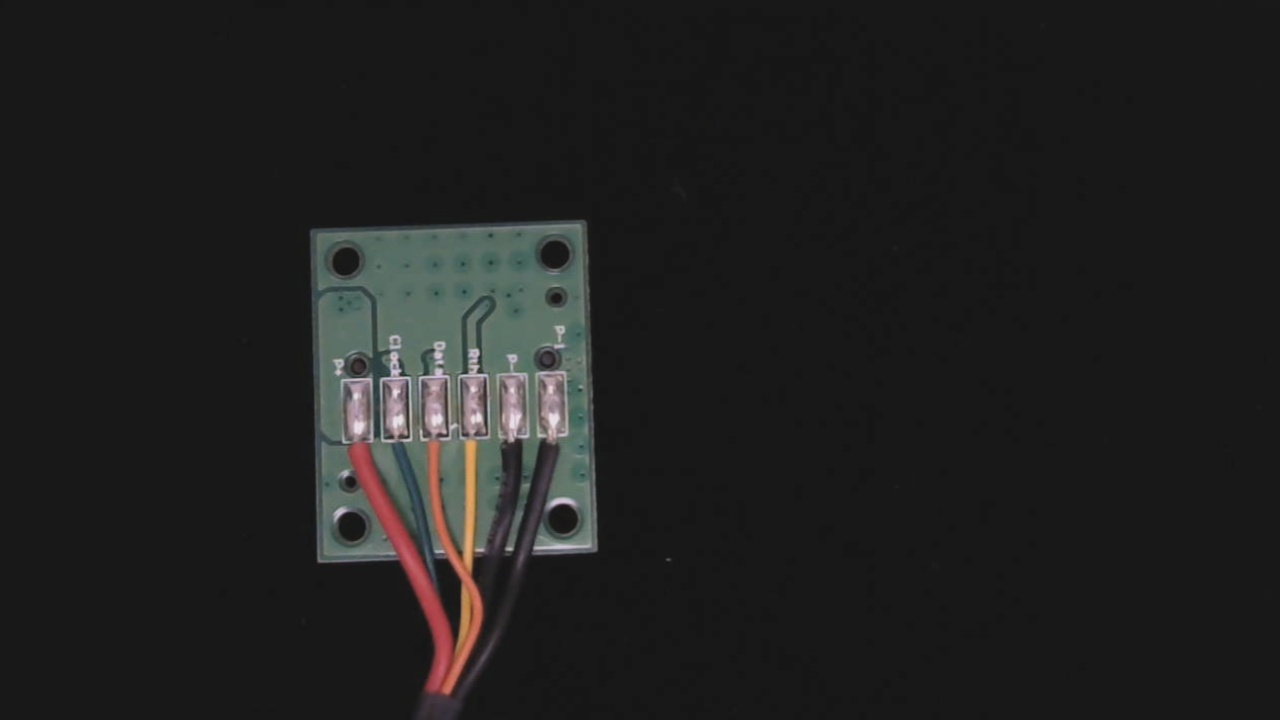Black: (513, 417, 545, 489)
Black1: (553, 419, 583, 479)
Green: (392, 419, 428, 491)
Orange: (433, 418, 467, 492)
Red: (351, 422, 388, 495)
Yellow: (473, 417, 504, 489)
